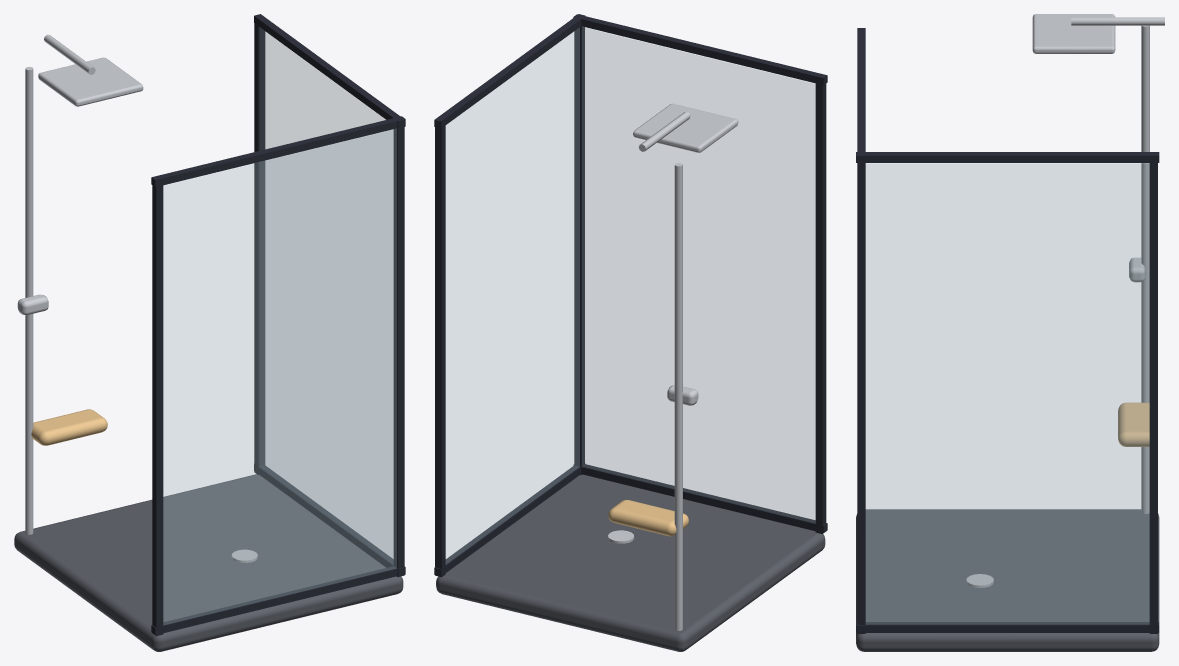
The model's file is shower-rain.glb.
3 renders of one model, left to right at view 1: azimuth 30°, elevation 25°; view 2: azimuth 150°, elevation 25°; view 3: azimuth 270°, elevation 25°, orthographic. The views are drawn at different scales.
Bounding box in the file's own units: 1.11 × 2.12 × 1.12.
